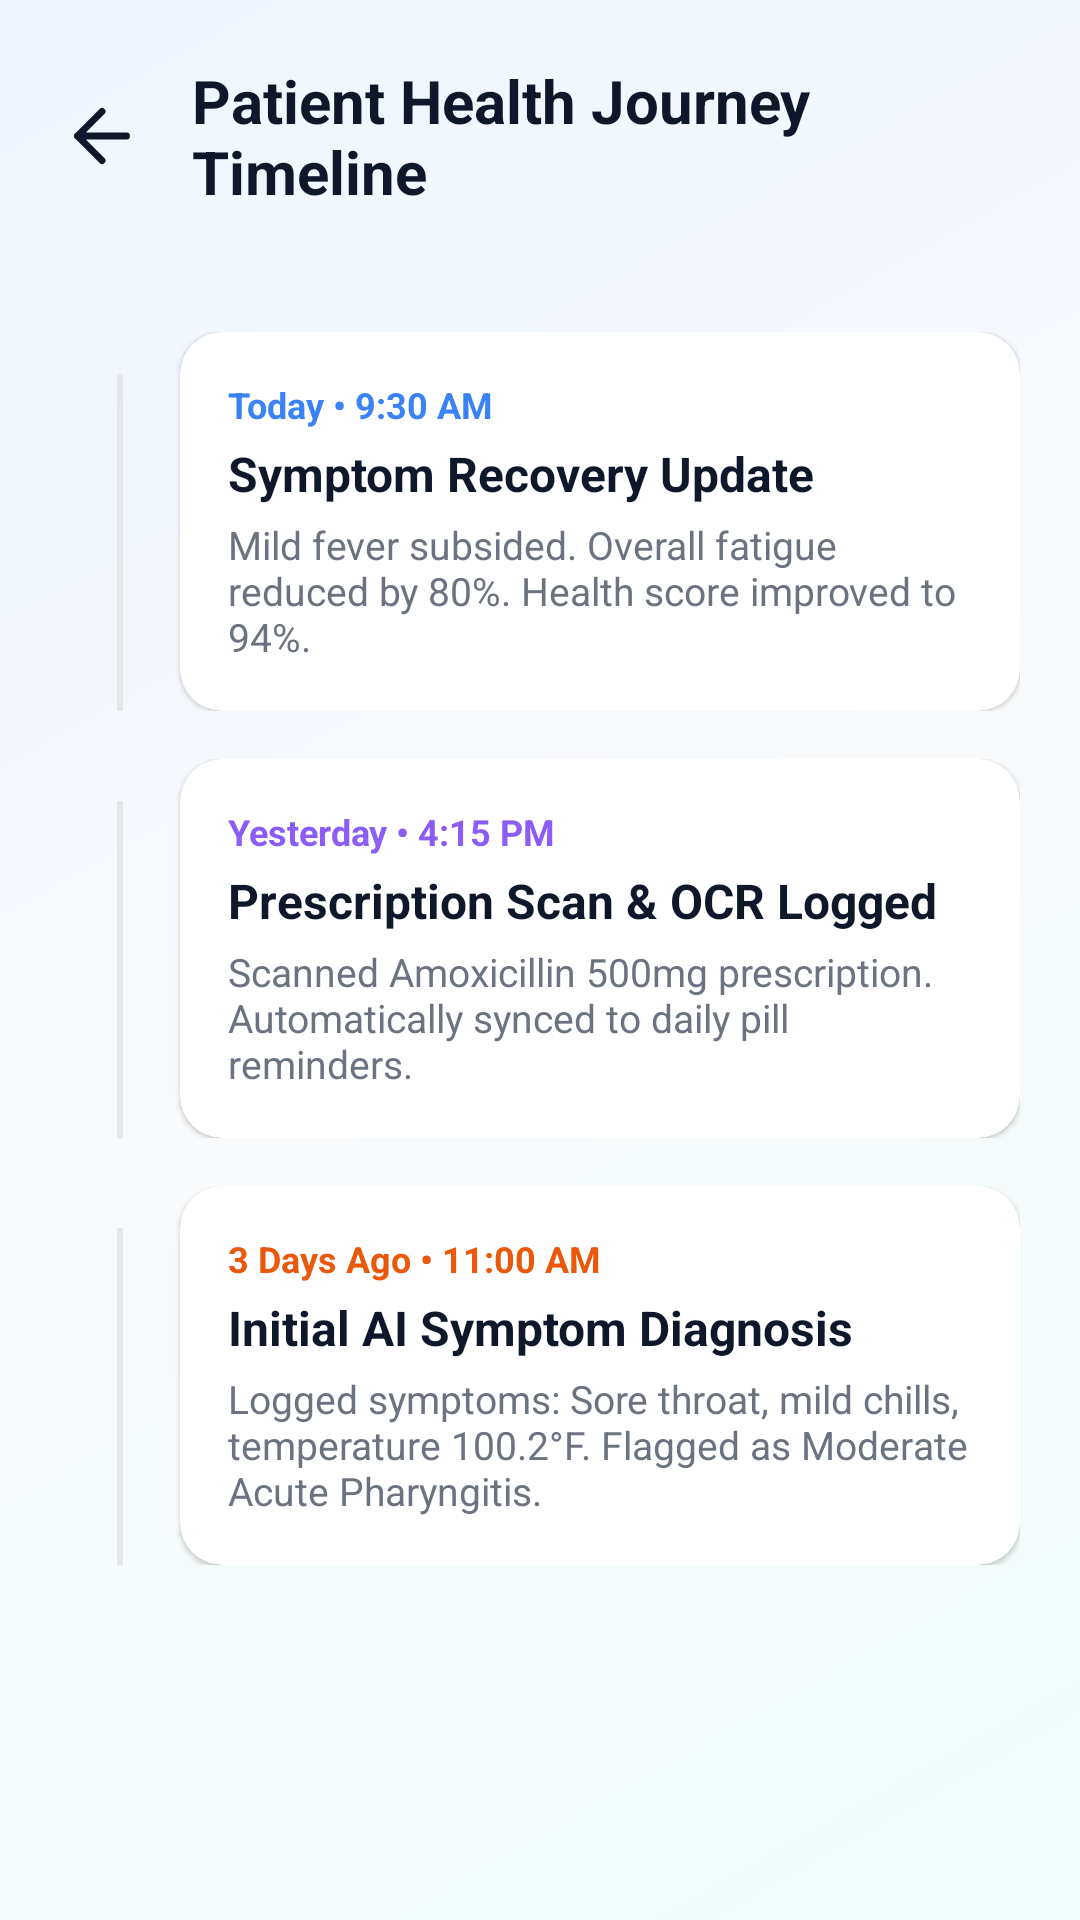

Where icons sit on this 1080w x 1920h app screen, as BBox(x1, y1, x2, y2):
Back: BBox(74, 108, 130, 164)
